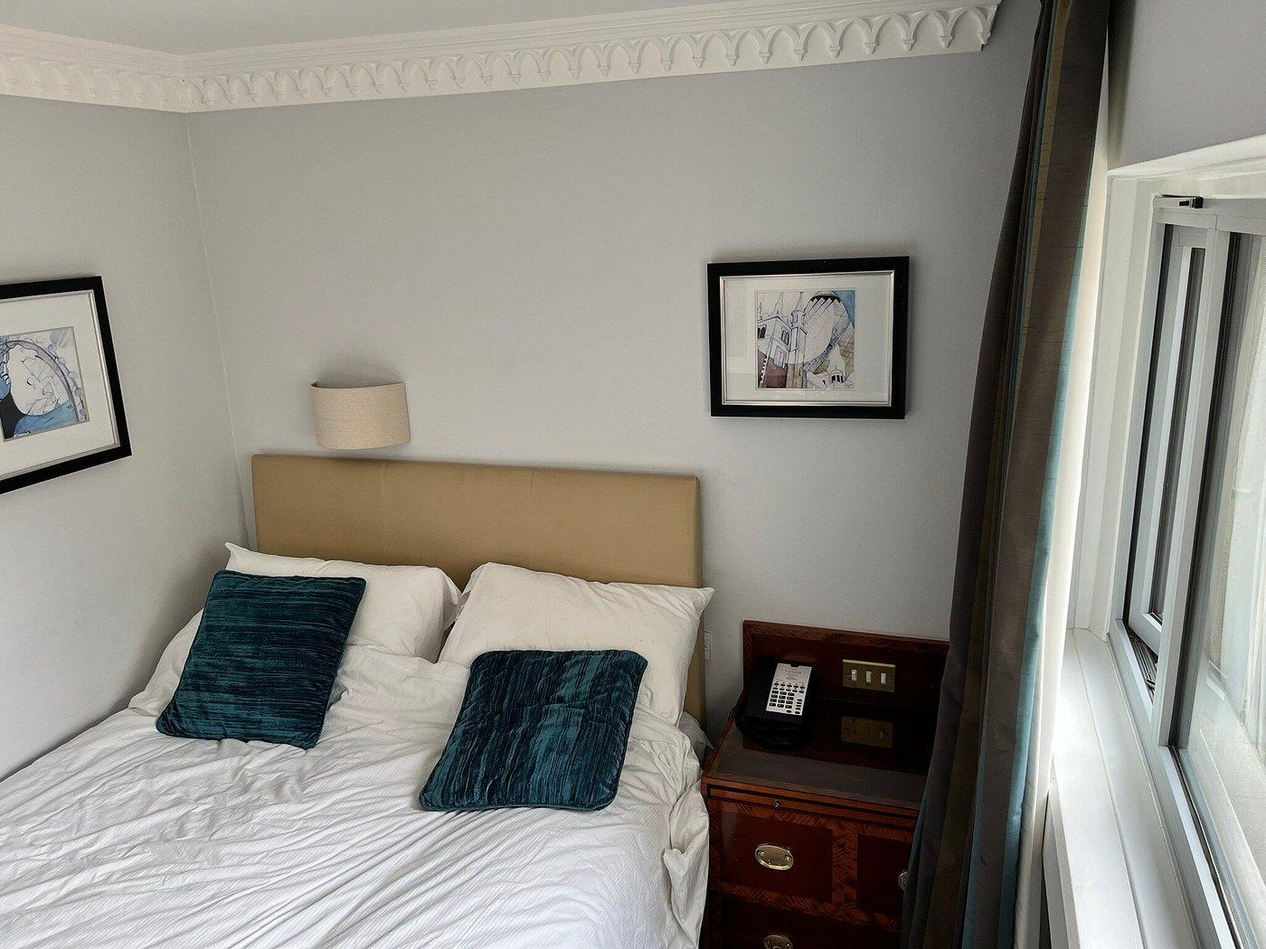Disorganized_pillow: (157, 536, 696, 768)
messy_bed: (12, 452, 702, 937)
